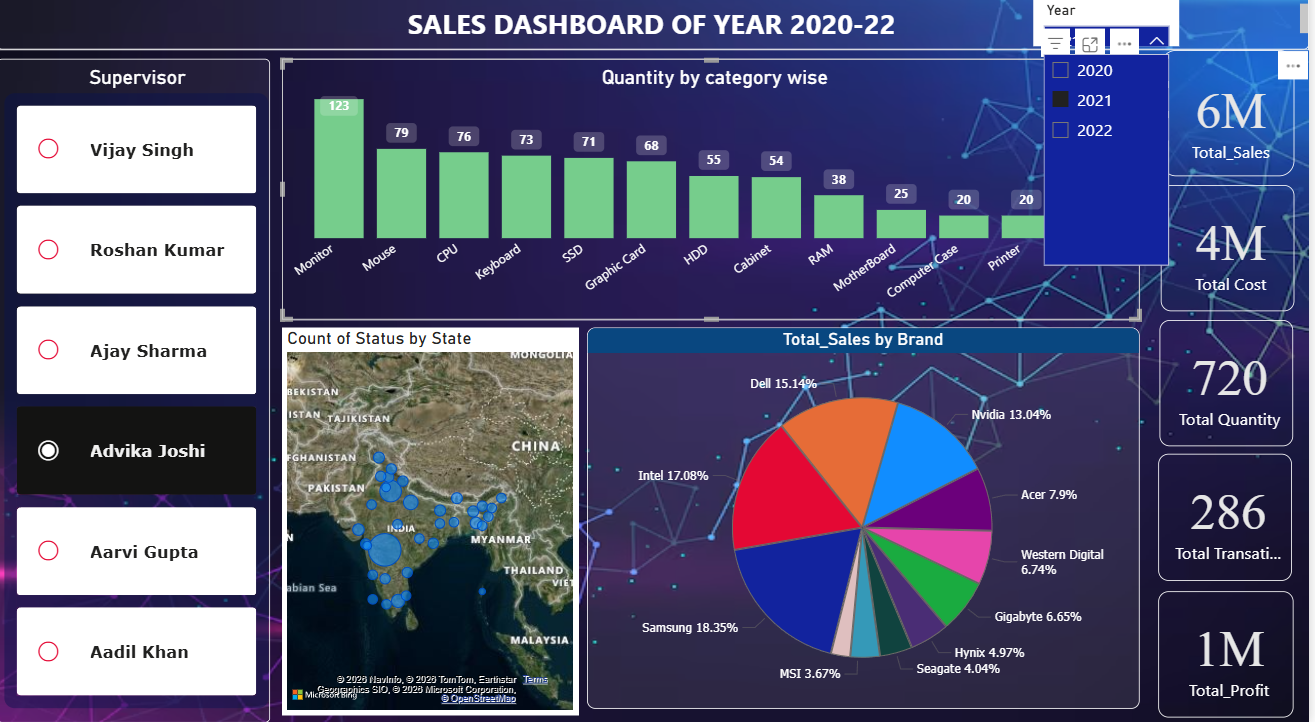

The page's visual inventory and layout, read from the dashboard file:
{"tool":"powerbi","page":{"name":"Page 1","canvas":[1280,720],"ordinal":0},"visuals":[{"type":"textbox","box":[0,11,1280.3,52.1],"z":0},{"type":"card","fields":{"Values":["Sum(Sales_Data.Total_Sales)"]},"box":[1134.8,63.1,130.4,123.5],"z":1000},{"type":"card","fields":{"Values":["Sum(Sales_Data.Quantity)"]},"box":[1133.8,326.6,130.4,123.5],"z":2000},{"type":"card","fields":{"Values":["Sum(Sales_Data.Total_Cost)"]},"box":[1135.2,194.9,130.4,123.5],"z":3000},{"type":"card","fields":{"Values":["Sales_Data.Total_Profit"]},"box":[1132.5,591.4,131.7,123.5],"z":4000},{"type":"clusteredColumnChart","title":"Quantity by category wise","fields":{"Y":["Sum(Sales_Data.Quantity)"],"Category":["Sales_Data.Category"]},"box":[278.6,71.4,837.1,255.2],"z":5000},{"type":"pieChart","fields":{"Y":["Sum(Sales_Data.Total_Sales)"],"Category":["Sales_Data.Brand"]},"box":[575.6,334.1,539,372],"z":6000},{"type":"advancedSlicerVisual","fields":{"Values":["Supervisor.Supervisor"]},"box":[0,71.4,266.2,649.1],"z":7000},{"type":"map","fields":{"Category":["State_list.State"],"Size":["CountNonNull(Sales_Data.Status)"]},"box":[278,334.1,289,378],"z":8000},{"type":"card","fields":{"Values":["CountNonNull(Sales_Data.Order_Number)"]},"box":[1132.5,457.7,130.1,123.9],"z":9000},{"type":"slicer","fields":{"Values":["dynamic_date.Date.Variation.Date Hierarchy.Year"]},"box":[1011,11,142.7,48.8],"z":10000}]}

Visuals, with their boxes in screenshot pixels (x1, y1, x2, y2), scaled from the page's 1280x720 canvas onto the 1315x722 screenshot:
textbox: [0,11,1314,63]
card - Sum(Sales_Data.Total_Sales): [1166,63,1300,187]
card - Sum(Sales_Data.Quantity): [1165,328,1299,451]
card - Sum(Sales_Data.Total_Cost): [1166,195,1300,319]
card - Sales_Data.Total_Profit: [1163,593,1299,717]
"Quantity by category wise" clusteredColumnChart: [286,72,1146,328]
pieChart - Sum(Sales_Data.Total_Sales) x Sales_Data.Brand: [591,335,1145,708]
advancedSlicerVisual - Supervisor.Supervisor: [0,72,273,721]
map - State_list.State x CountNonNull(Sales_Data.Status): [286,335,583,714]
card - CountNonNull(Sales_Data.Order_Number): [1163,459,1297,583]
slicer - dynamic_date.Date.Variation.Date Hierarchy.Year: [1039,11,1185,60]
